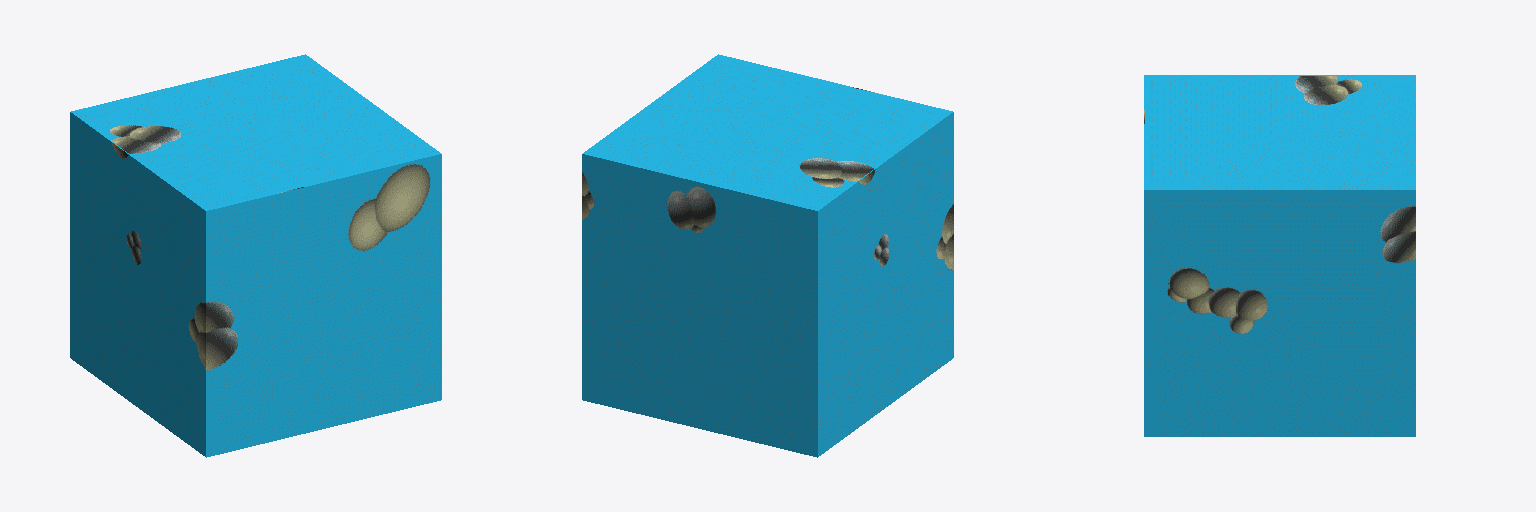
3 renders of one model, left to right at view 1: azimuth 30°, elevation 25°; view 2: azimuth 150°, elevation 25°; view 3: azimuth 270°, elevation 25°, orthographic.
Visible parts, largest first — view 1: sky_1, sky_2, sky_6; view 2: sky_3, sky_2, sky_6; view 3: sky_4, sky_6.
Boxes of the visible parts, box(x1,y1,x2,y2) form: sky_1: box(206, 154, 441, 457); sky_2: box(70, 112, 205, 456); sky_6: box(71, 54, 440, 210); sky_3: box(582, 154, 817, 457); sky_2: box(818, 112, 953, 456); sky_6: box(583, 54, 952, 210); sky_4: box(1144, 190, 1415, 436); sky_6: box(1144, 75, 1415, 189).
Size of the model in its own units: 1 by 1 by 1.
Materials: 1 (1 with a texture image).